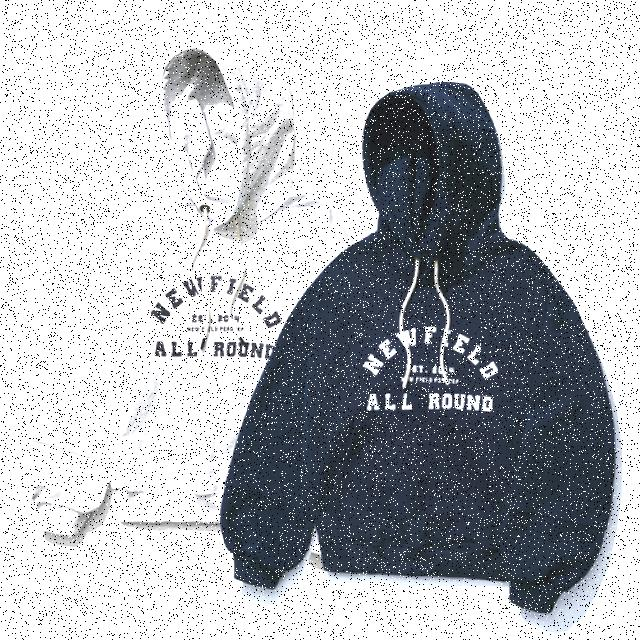Blouse_deep: (211, 69, 640, 596), (33, 27, 344, 549)
